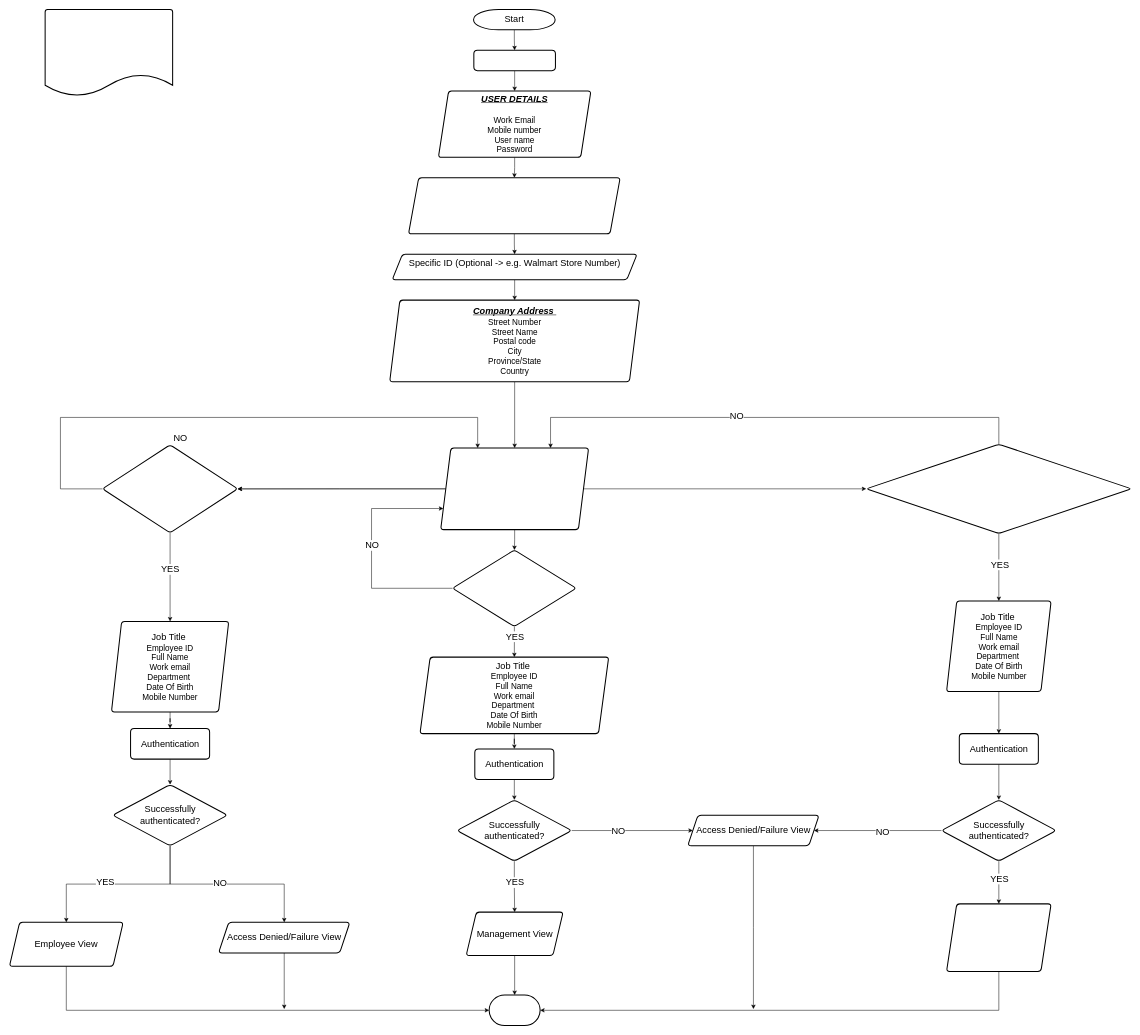
Image size: 1140x1035. Some labels were removed from this diagram. Here are the shapes that lost their labels. From the top down, the centre of each, then its label:
point 108,52: New User
point 514,60: Sign up
point 514,205: Company/Employer Details Company Name Country
point 170,488: Are you full-time or part-time employee?
point 514,488: What is your position?
point 998,488: Are you opening account as administrator for your workplace?
point 514,588: Are you manager?
point 998,937: Administrator View
point 514,1010: End
